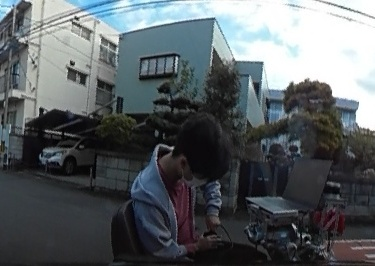person: (131, 116, 236, 266)
